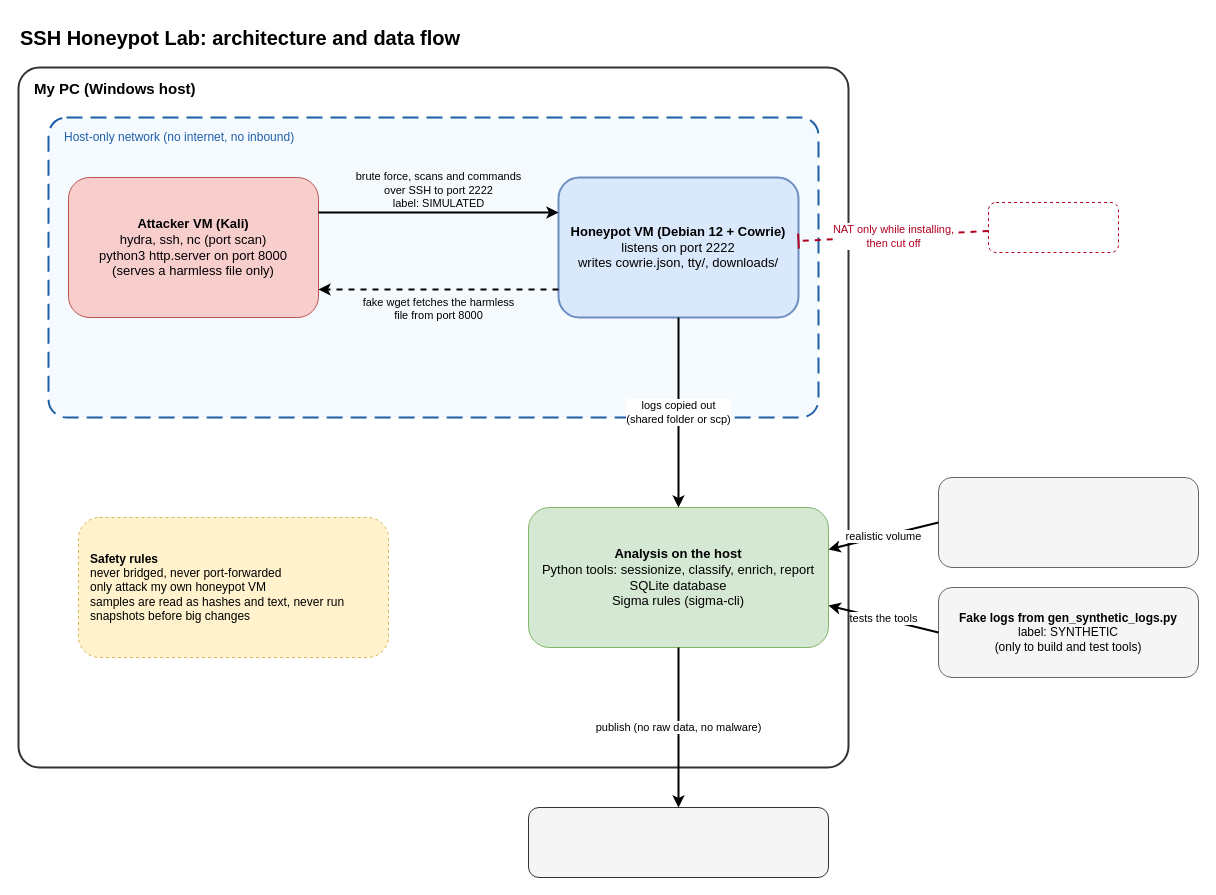
The diagram is 1216 pixels wide and 895 high, and some of its shapes have lost their labels. The centre of each missing label's shape, as x and y in pixels:
"GitHub repo code, rules, case study report" belongs at (678,842).
"Internet" belongs at (1053,227).
"Public datasets label: PUBLIC DATASET read as text only, never run" belongs at (1068,522).
